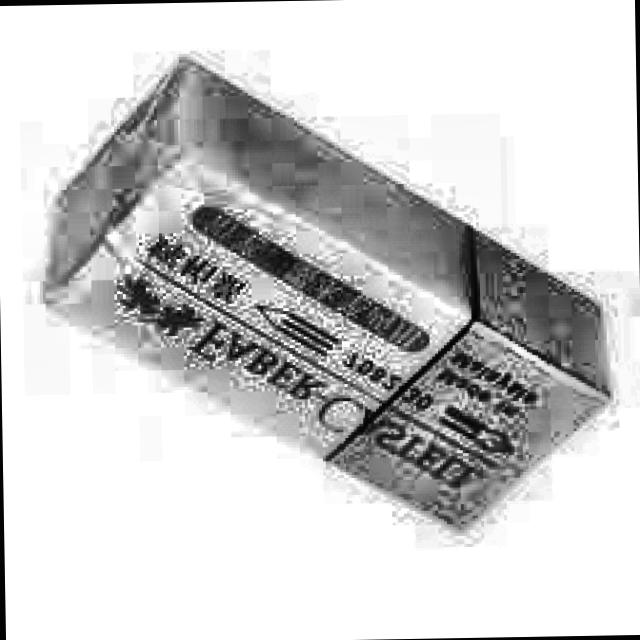eraser: (32, 52, 612, 551)
